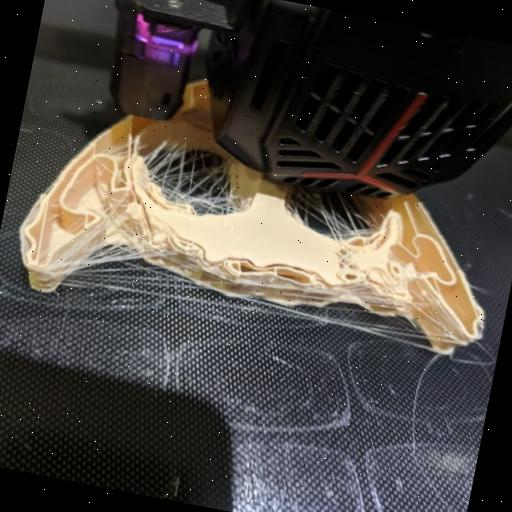stringing: (148, 152, 247, 221), (290, 186, 376, 243), (94, 233, 164, 275)
